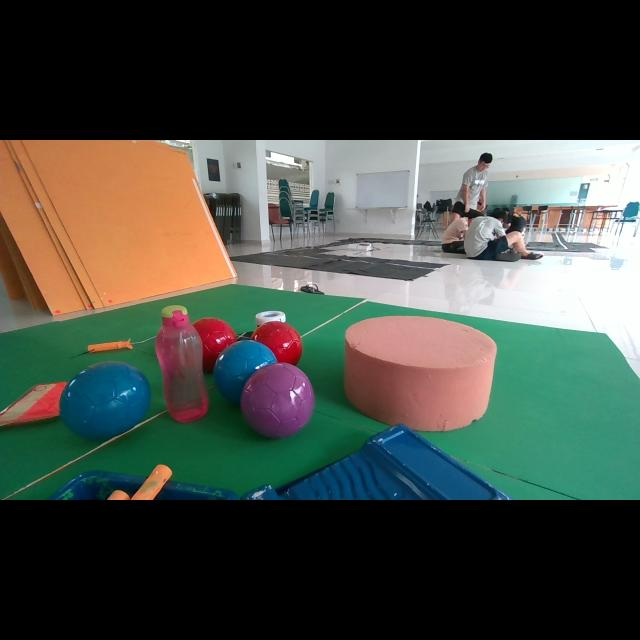B: (59, 361, 151, 439), (214, 340, 278, 404)
P: (240, 362, 315, 438)
R: (192, 318, 238, 372), (251, 321, 302, 364)
